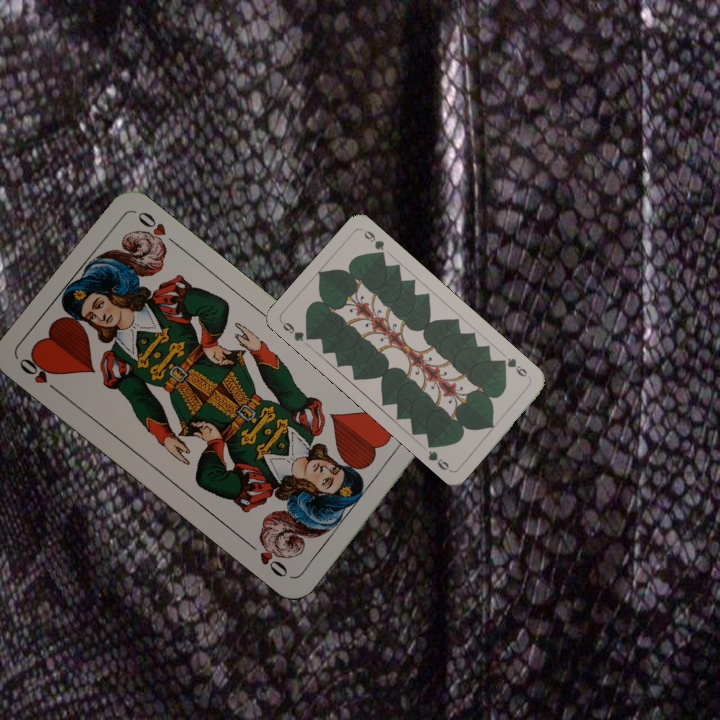G9: (496, 354, 533, 382), (278, 318, 316, 344)
HO: (15, 350, 65, 398)
